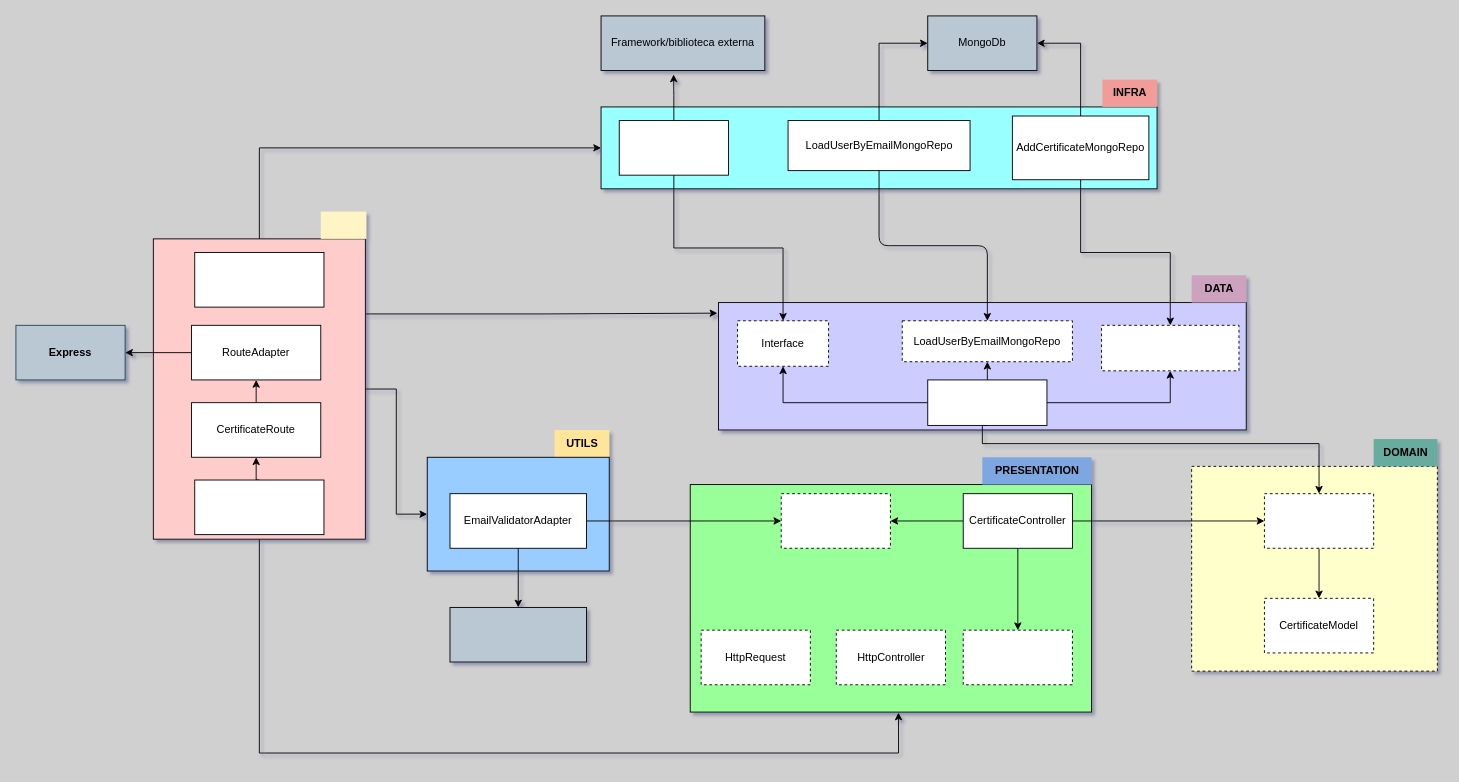
Image size: 1459x782. Some labels were removed from this diagram. The shapes that lost their labels are listed below. From the top down, each one's centre as x and y in pixels, then its label:
At (x=673, y=147): "Adapter".
At (x=343, y=224): "MAIN".
At (x=259, y=279): "CertificateComposer".
At (x=1170, y=347): "AddCertificateRepo".
At (x=987, y=402): "DbAddCertificate".
At (x=259, y=507): "App".
At (x=835, y=520): "EmailValidator".
At (x=1319, y=520): "AddCertificate".
At (x=517, y=634): "Validator".
At (x=1017, y=657): "Controller (interface)".
